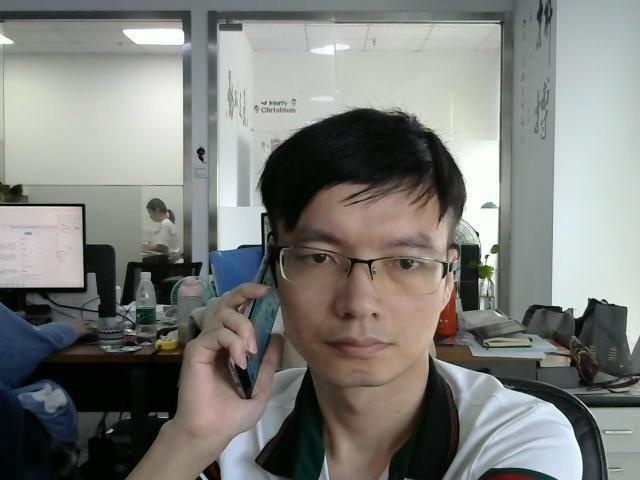hand: (185, 280, 282, 421)
